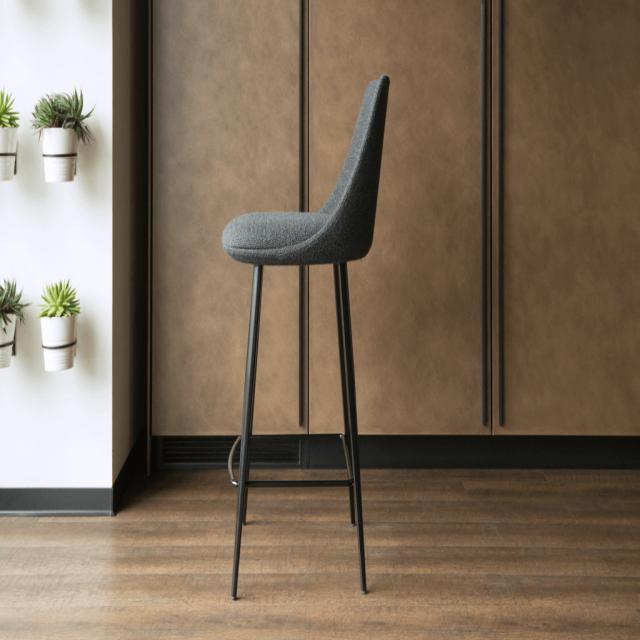chair: (220, 66, 394, 598), (222, 66, 380, 254)
